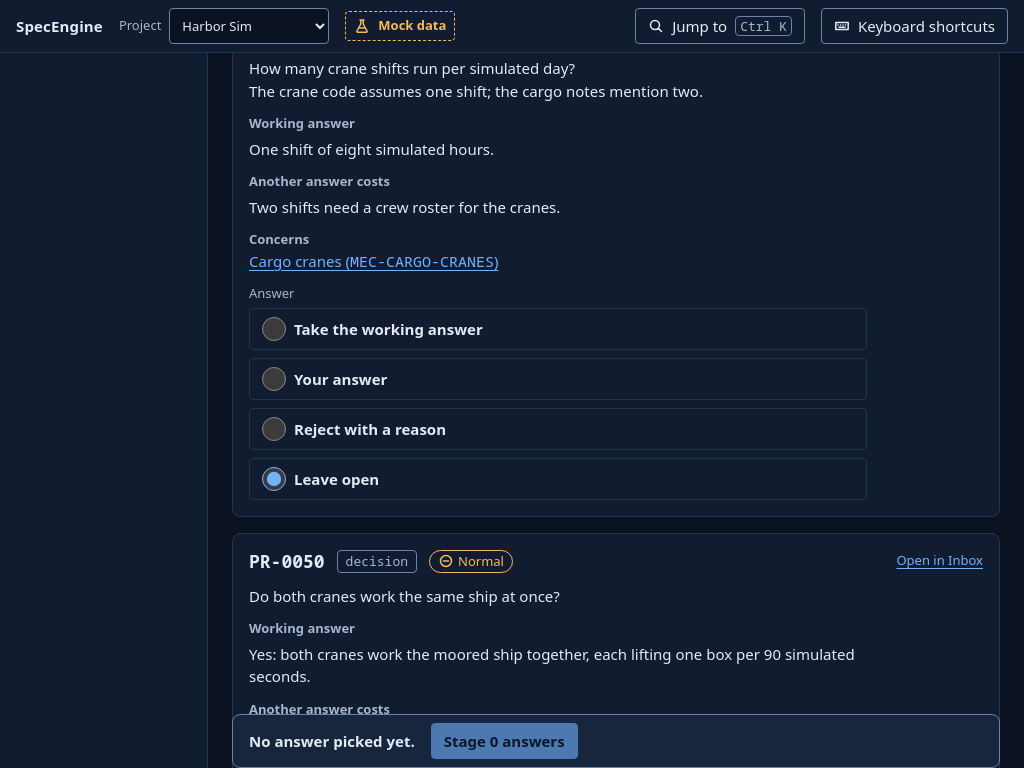
the Questions screen over the mock › normal: harbor-sim's sheet in round order; two answers staged in one go, shown staged with the terminal step
(page scrolled)
Click the radio button labelled "Take the working answer" at (274, 329), box [262, 317, 286, 341]
(page scrolled)
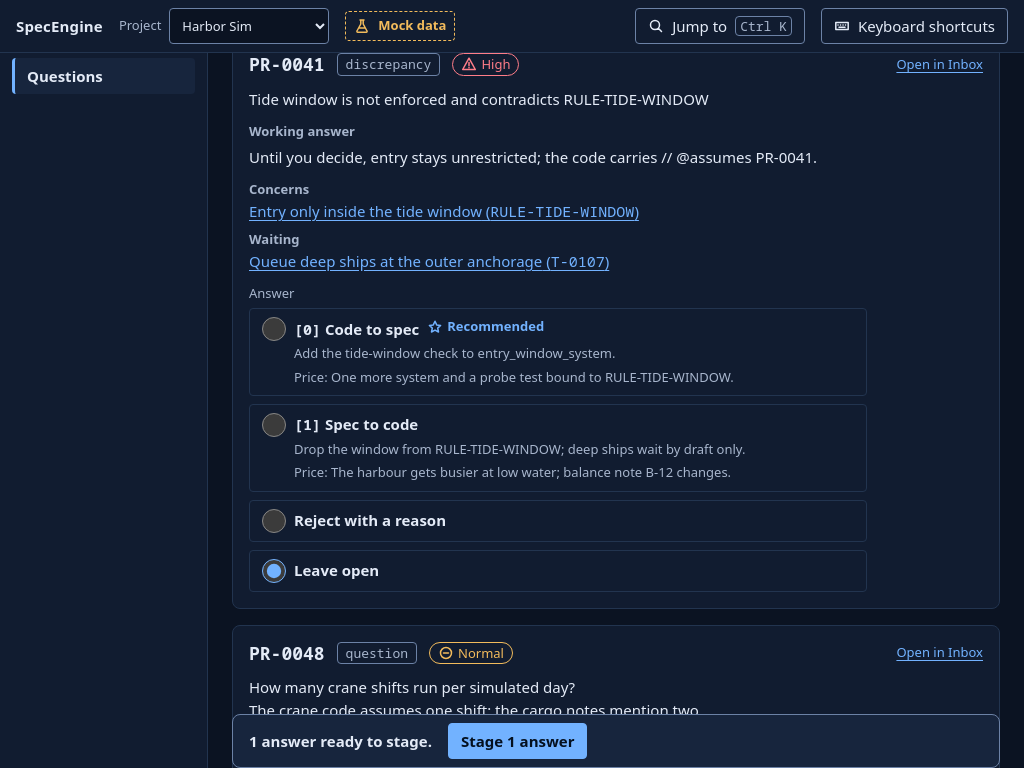
Click the radio button labelled "[0] Code to spec" at (274, 329), box [262, 317, 286, 341]
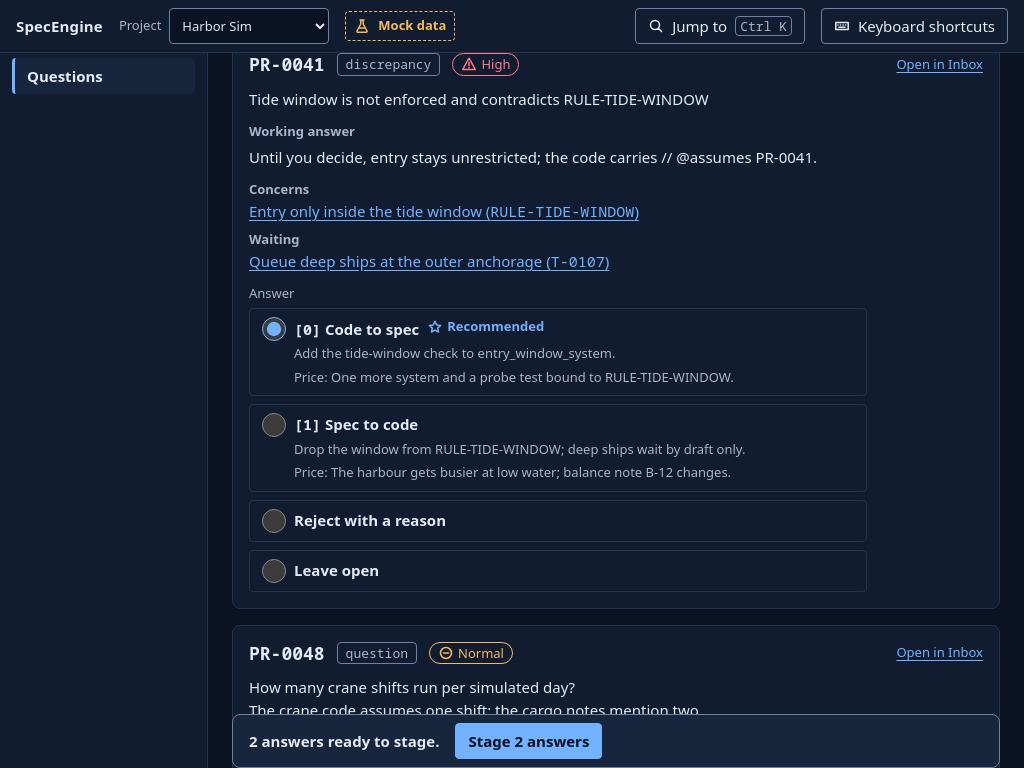
Click the button "Stage 2 answers" at (529, 741), box [456, 723, 602, 759]
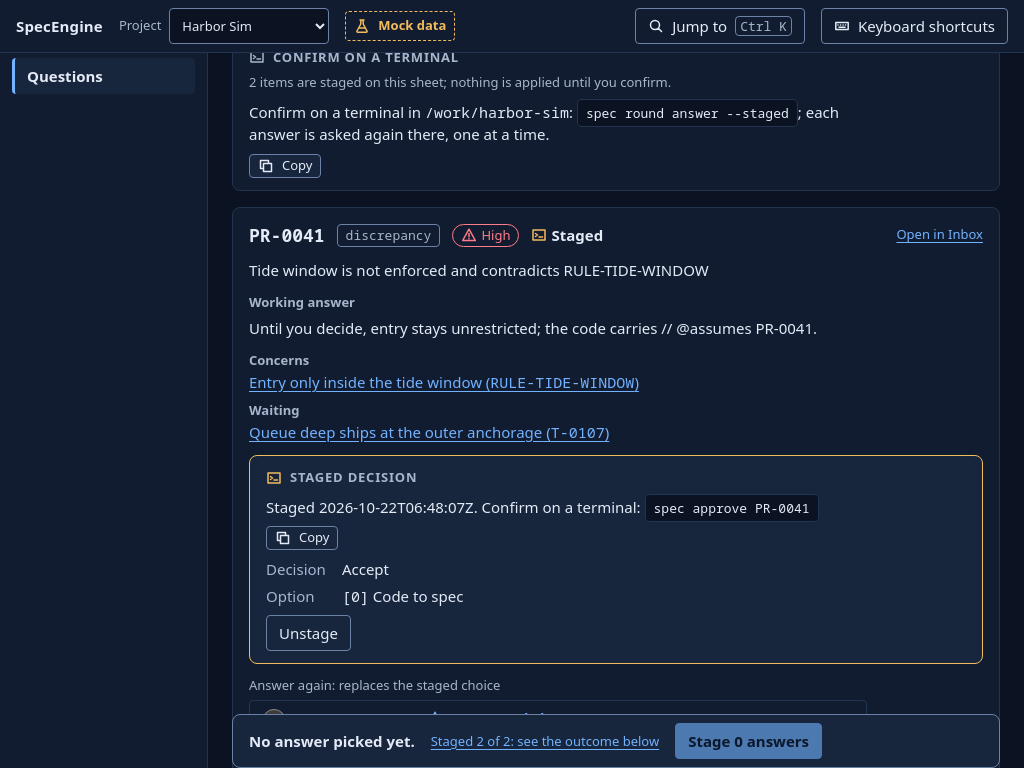
Expected: the text "Mock data" is shown, [378, 16, 446, 36]
Expected: the element "Staged decision" is shown, [249, 455, 983, 664]
Expected: the element with class "round-confirm-line" shows "Confirm on a terminal in /work/harbor-sim: spec round answer --staged; each answer is asked again there, one at a time.", [249, 101, 867, 146]
